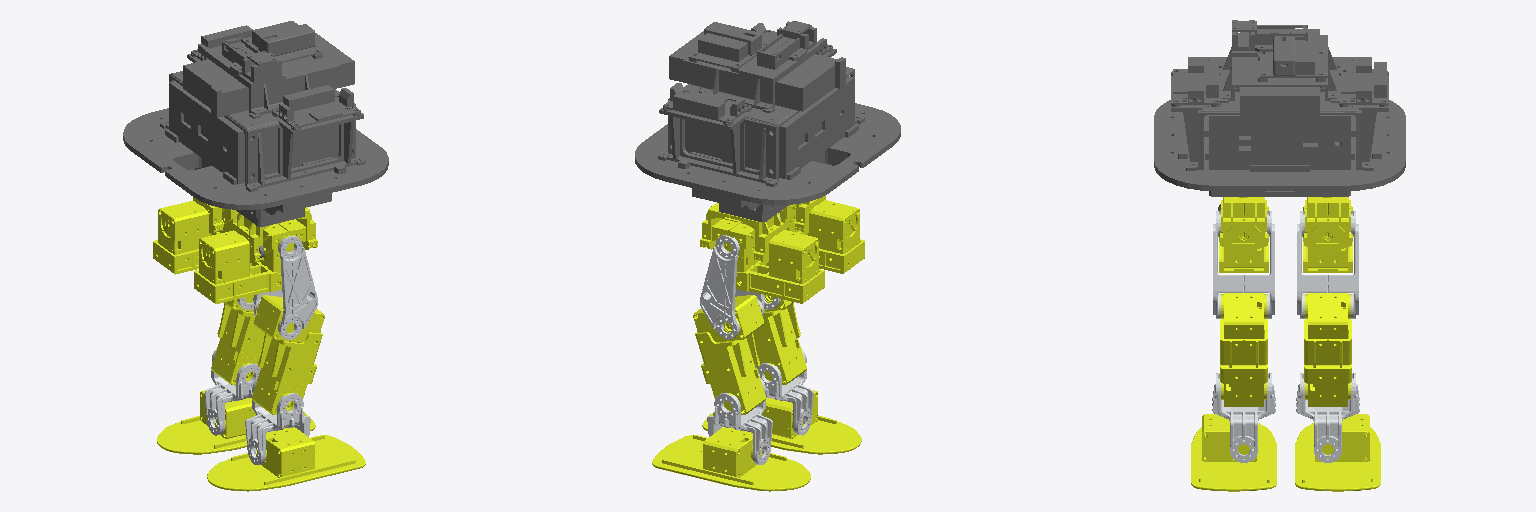
URDF robot description (exhx5_w_b_16):
<?xml version="1.0" encoding="utf-8"?>
<!-- This URDF was automatically created by SolidWorks to URDF Exporter! Originally created by [author] ([email redacted]) 
     Commit Version: 1.5.1-0-g916b5db  Build Version: 1.5.7152.31018
     For more information, please see http://wiki.ros.org/sw_urdf_exporter -->
<robot
  name="exhx5_w_b_16">
  <link
    name="body_link">
    <inertial>
      <origin
        xyz="0.00043545 0.00025536 0.10071"
        rpy="0 0 0" />
      <mass
        value="1.8238" />
      <inertia
        ixx="0.0025905"
        ixy="-5.6852E-06"
        ixz="-1.3106E-05"
        iyy="0.0024595"
        iyz="-1.261E-06"
        izz="0.0046407" />
    </inertial>
    <visual>
      <origin
        xyz="0 0 0"
        rpy="0 0 0" />
      <geometry>
        <mesh
          filename="../meshes/body_link.STL" />
      </geometry>
      <material
        name="">
        <color
          rgba="0.49804 0.49804 0.49804 1" />
      </material>
    </visual>
    <collision>
      <origin
        xyz="0 0 0"
        rpy="0 0 0" />
      <geometry>
        <mesh
          filename="../meshes/body_link.STL" />
      </geometry>
    </collision>
  </link>

  <link
    name="imu_link">
    <inertial>
      <origin
        xyz="-0.008387 1.336E-17 -0.0069463"
        rpy="0 0 0" />
      <mass
        value="0.0062931" />
      <inertia
        ixx="3.2242E-07"
        ixy="3.3527E-22"
        ixz="-6.9193E-08"
        iyy="9.2229E-07"
        iyz="-8.0392E-22"
        izz="1.1018E-06" />
    </inertial>
    <visual>
      <origin
        xyz="0 0 0"
        rpy="0 0 0" />
      <geometry>
        <mesh
          filename="../meshes/imu_link.STL" />
      </geometry>
      <material
        name="">
        <color
          rgba="0.79216 0.81961 0.93333 1" />
      </material>
    </visual>
    <collision>
      <origin
        xyz="0 0 0"
        rpy="0 0 0" />
      <geometry>
        <mesh
          filename="../meshes/imu_link.STL" />
      </geometry>
    </collision>
  </link>
  <joint
    name="imu"
    type="fixed">
    <origin
      xyz="0 0 0.0492"
      rpy="0 0 0" />
    <parent
      link="body_link" />
    <child
      link="imu_link" />
    <axis
      xyz="0 0 0" />
    <limit
      lower="-3.14"
      upper="3.14"
      effort="4"
      velocity="4" />
  </joint>
  <link
    name="l_hip_g_link">
    <inertial>
      <origin
        xyz="-0.0043797 -8.6604E-08 0.011813"
        rpy="0 0 0" />
      <mass
        value="0.061008" />
      <inertia
        ixx="1.167E-05"
        ixy="7.1767E-11"
        ixz="9.1442E-09"
        iyy="2.2342E-05"
        iyz="2.5177E-11"
        izz="2.4892E-05" />
    </inertial>
    <visual>
      <origin
        xyz="0 0 0"
        rpy="0 0 0" />
      <geometry>
        <mesh
          filename="../meshes/l_hip_g_link.STL" />
      </geometry>
      <material
        name="">
        <color
          rgba="0.9451 1 0.18431 1" />
      </material>
    </visual>
    <collision>
      <origin
        xyz="0 0 0"
        rpy="0 0 0" />
      <geometry>
        <mesh
          filename="../meshes/l_hip_g_link.STL" />
      </geometry>
    </collision>
  </link>
  <joint
    name="l_hip_g"
    type="fixed">
    <origin
      xyz="0 .040 0"
      rpy="0 0 0" />
    <parent
      link="body_link" />
    <child
      link="l_hip_g_link" />
    <axis
      xyz="0 0 0" />
  </joint>
  <link
    name="l_hip_roll_link">
    <inertial>
      <origin
        xyz="0.013831 0.00033457 0.025453"
        rpy="0 0 0" />
      <mass
        value="0.2969" />
      <inertia
        ixx="7.8136E-05"
        ixy="7.265E-07"
        ixz="-6.9809E-08"
        iyy="9.2183E-05"
        iyz="-5.6881E-11"
        izz="7.1034E-05" />
    </inertial>
    <visual>
      <origin
        xyz="0 0 0"
        rpy="0 0 0" />
      <geometry>
        <mesh
          filename="../meshes/l_hip_roll_link.STL" />
      </geometry>
      <material
        name="">
        <color
          rgba="0.9451 1 0.18431 1" />
      </material>
    </visual>
    <collision>
      <origin
        xyz="0 0 0"
        rpy="0 0 0" />
      <geometry>
        <mesh
          filename="../meshes/l_hip_roll_link.STL" />
      </geometry>
    </collision>
  </link>
  <joint
    name="l_hip_roll"
    type="revolute">
    <origin
      xyz="0 0 0"
      rpy="3.1416 1.5708 0" />
    <parent
      link="l_hip_g_link" />
    <child
      link="l_hip_roll_link" />
    <axis
      xyz="0 0 1" />
    <limit
      lower="-3.14"
      upper="3.14"
      effort="4"
      velocity="4" />
  </joint>
  <link
    name="l_hip_pitch_link">
    <inertial>
      <origin
        xyz="0.041225 -0.007321 -5.0713E-08"
        rpy="0 0 0" />
      <mass
        value="0.051592" />
      <inertia
        ixx="2.7959E-05"
        ixy="2.0752E-06"
        ixz="-8.0934E-11"
        iyy="4.8156E-05"
        iyz="3.6317E-11"
        izz="2.9604E-05" />
    </inertial>
    <visual>
      <origin
        xyz="0 0 0"
        rpy="0 0 0" />
      <geometry>
        <mesh
          filename="../meshes/l_hip_pitch_link.STL" />
      </geometry>
      <material
        name="">
        <color
          rgba="0.89804 0.91765 0.92941 1" />
      </material>
    </visual>
    <collision>
      <origin
        xyz="0 0 0"
        rpy="0 0 0" />
      <geometry>
        <mesh
          filename="../meshes/l_hip_pitch_link.STL" />
      </geometry>
    </collision>
  </link>
  <joint
    name="l_hip_pitch"
    type="revolute">
    <origin
      xyz="0 0 0"
      rpy="1.5708 0 0" />
    <parent
      link="l_hip_roll_link" />
    <child
      link="l_hip_pitch_link" />
    <axis
      xyz="0 0 1" />
    <limit
      lower="-3.14"
      upper="3.14"
      effort="4"
      velocity="4" />
  </joint>
  <link
    name="l_knee_link">
    <inertial>
      <origin
        xyz="0.033756 -0.0084189 -6.6115E-09"
        rpy="0 0 0" />
      <mass
        value="0.28878" />
      <inertia
        ixx="6.6724E-05"
        ixy="7.5004E-07"
        ixz="-8.4578E-07"
        iyy="6.5699E-05"
        iyz="4.1085E-07"
        izz="7.0381E-05" />
    </inertial>
    <visual>
      <origin
        xyz="0 0 0"
        rpy="0 0 0" />
      <geometry>
        <mesh
          filename="../meshes/l_knee_link.STL" />
      </geometry>
      <material
        name="">
        <color
          rgba="0.9451 1 0.18431 1" />
      </material>
    </visual>
    <collision>
      <origin
        xyz="0 0 0"
        rpy="0 0 0" />
      <geometry>
        <mesh
          filename="../meshes/l_knee_link.STL" />
      </geometry>
    </collision>
  </link>
  <joint
    name="l_knee"
    type="revolute">
    <origin
      xyz="0.075954 0 0"
      rpy="0 0 0" />
    <parent
      link="l_hip_pitch_link" />
    <child
      link="l_knee_link" />
    <axis
      xyz="0 0 1" />
    <limit
      lower="-3.14"
      upper="3.14"
      effort="4"
      velocity="4" />
  </joint>
  <link
    name="l_ank_pitch_link">
    <inertial>
      <origin
        xyz="0.022786 -7.3909E-09 -7.1981E-06"
        rpy="0 0 0" />
      <mass
        value="0.044772" />
      <inertia
        ixx="1.777E-05"
        ixy="8.555E-14"
        ixz="-3.3713E-09"
        iyy="1.7119E-05"
        iyz="1.7593E-11"
        izz="1.8661E-05" />
    </inertial>
    <visual>
      <origin
        xyz="0 0 0"
        rpy="0 0 0" />
      <geometry>
        <mesh
          filename="../meshes/l_ank_pitch_link.STL" />
      </geometry>
      <material
        name="">
        <color
          rgba="0.89804 0.91765 0.92941 1" />
      </material>
    </visual>
    <collision>
      <origin
        xyz="0 0 0"
        rpy="0 0 0" />
      <geometry>
        <mesh
          filename="../meshes/l_ank_pitch_link.STL" />
      </geometry>
    </collision>
  </link>
  <joint
    name="l_ank_pitch"
    type="revolute">
    <origin
      xyz="0.074602 0 0"
      rpy="3.1416 0 0" />
    <parent
      link="l_knee_link" />
    <child
      link="l_ank_pitch_link" />
    <axis
      xyz="0 0 1" />
    <limit
      lower="-3.14"
      upper="3.14"
      effort="4"
      velocity="4" />
  </joint>
  <link
    name="l_ank_roll_link">
    <inertial>
      <origin
        xyz="0.0047069 0.010728 0.0015299"
        rpy="0 0 0" />
      <mass
        value="0.16774" />
      <inertia
        ixx="0.00012039"
        ixy="-3.7428E-09"
        ixz="4.4069E-08"
        iyy="8.7735E-05"
        iyz="7.0469E-07"
        izz="4.7866E-05" />
    </inertial>
    <visual>
      <origin
        xyz="0 0 0"
        rpy="0 0 0" />
      <geometry>
        <mesh
          filename="../meshes/l_ank_roll_link.STL" />
      </geometry>
      <material
        name="">
        <color
          rgba="0.9451 1 0.18431 1" />
      </material>
    </visual>
    <collision>
      <origin
        xyz="0 0 0"
        rpy="0 0 0" />
      <geometry>
        <mesh
          filename="../meshes/l_ank_roll_link.STL" />
      </geometry>
    </collision>
  </link>
  <joint
    name="l_ank_roll"
    type="revolute">
    <origin
      xyz="0.0465 0 0"
      rpy="-1.5708 0 0" />
    <parent
      link="l_ank_pitch_link" />
    <child
      link="l_ank_roll_link" />
    <axis
      xyz="0 0 1" />
    <limit
      lower="-3.14"
      upper="3.14"
      effort="4"
      velocity="4" />
  </joint>
  <link
    name="r_hip_g_link">
    <inertial>
      <origin
        xyz="-0.0043797 -8.6604E-08 0.011813"
        rpy="0 0 0" />
      <mass
        value="0.061008" />
      <inertia
        ixx="1.167E-05"
        ixy="7.1767E-11"
        ixz="9.1442E-09"
        iyy="2.2342E-05"
        iyz="2.5177E-11"
        izz="2.4892E-05" />
    </inertial>
    <visual>
      <origin
        xyz="0 0 0"
        rpy="0 0 0" />
      <geometry>
        <mesh
          filename="../meshes/r_hip_g_link.STL" />
      </geometry>
      <material
        name="">
        <color
          rgba="0.9451 1 0.18431 1" />
      </material>
    </visual>
    <collision>
      <origin
        xyz="0 0 0"
        rpy="0 0 0" />
      <geometry>
        <mesh
          filename="../meshes/r_hip_g_link.STL" />
      </geometry>
    </collision>
  </link>
  <joint
    name="r_hip_g"
    type="fixed">
    <origin
      xyz="0 -.030 0"
      rpy="0 0 0" />
    <parent
      link="body_link" />
    <child
      link="r_hip_g_link" />
    <axis
      xyz="0 0 0" />
  </joint>
  <link
    name="r_hip_roll_link">
    <inertial>
      <origin
        xyz="0.013831 0.00033457 0.025453"
        rpy="0 0 0" />
      <mass
        value="0.2969" />
      <inertia
        ixx="7.8136E-05"
        ixy="7.265E-07"
        ixz="-6.9809E-08"
        iyy="9.2183E-05"
        iyz="-5.6881E-11"
        izz="7.1034E-05" />
    </inertial>
    <visual>
      <origin
        xyz="0 0 0"
        rpy="0 0 0" />
      <geometry>
        <mesh
          filename="../meshes/r_hip_roll_link.STL" />
      </geometry>
      <material
        name="">
        <color
          rgba="0.9451 1 0.18431 1" />
      </material>
    </visual>
    <collision>
      <origin
        xyz="0 0 0"
        rpy="0 0 0" />
      <geometry>
        <mesh
          filename="../meshes/r_hip_roll_link.STL" />
      </geometry>
    </collision>
  </link>
  <joint
    name="r_hip_roll"
    type="revolute">
    <origin
      xyz="0 0 0"
      rpy="3.1416 1.5708 0" />
    <parent
      link="r_hip_g_link" />
    <child
      link="r_hip_roll_link" />
    <axis
      xyz="0 0 1" />
    <limit
      lower="-3.14"
      upper="3.14"
      effort="4"
      velocity="4" />
  </joint>
  <link
    name="r_hip_pitch_link">
    <inertial>
      <origin
        xyz="0.041225 0.007321 5.0713E-08"
        rpy="0 0 0" />
      <mass
        value="0.051592" />
      <inertia
        ixx="2.7959E-05"
        ixy="-2.0752E-06"
        ixz="8.0934E-11"
        iyy="4.8156E-05"
        iyz="3.6317E-11"
        izz="2.9604E-05" />
    </inertial>
    <visual>
      <origin
        xyz="0 0 0"
        rpy="0 0 0" />
      <geometry>
        <mesh
          filename="../meshes/r_hip_pitch_link.STL" />
      </geometry>
      <material
        name="">
        <color
          rgba="0.89804 0.91765 0.92941 1" />
      </material>
    </visual>
    <collision>
      <origin
        xyz="0 0 0"
        rpy="0 0 0" />
      <geometry>
        <mesh
          filename="../meshes/r_hip_pitch_link.STL" />
      </geometry>
    </collision>
  </link>
  <joint
    name="r_hip_pitch"
    type="revolute">
    <origin
      xyz="0 0 0"
      rpy="-1.5708 0 0" />
    <parent
      link="r_hip_roll_link" />
    <child
      link="r_hip_pitch_link" />
    <axis
      xyz="0 0 1" />
    <limit
      lower="-3.14"
      upper="3.14"
      effort="4"
      velocity="4" />
  </joint>
  <link
    name="r_knee_link">
    <inertial>
      <origin
        xyz="0.033757 0.0084176 6.6115E-09"
        rpy="0 0 0" />
      <mass
        value="0.28878" />
      <inertia
        ixx="6.6724E-05"
        ixy="-7.5008E-07"
        ixz="8.458E-07"
        iyy="6.5699E-05"
        iyz="4.1081E-07"
        izz="7.0381E-05" />
    </inertial>
    <visual>
      <origin
        xyz="0 0 0"
        rpy="0 0 0" />
      <geometry>
        <mesh
          filename="../meshes/r_knee_link.STL" />
      </geometry>
      <material
        name="">
        <color
          rgba="0.9451 1 0.18431 1" />
      </material>
    </visual>
    <collision>
      <origin
        xyz="0 0 0"
        rpy="0 0 0" />
      <geometry>
        <mesh
          filename="../meshes/r_knee_link.STL" />
      </geometry>
    </collision>
  </link>
  <joint
    name="r_knee"
    type="revolute">
    <origin
      xyz="0.075954 0 0"
      rpy="0 0 0" />
    <parent
      link="r_hip_pitch_link" />
    <child
      link="r_knee_link" />
    <axis
      xyz="0 0 1" />
    <limit
      lower="-3.14"
      upper="3.14"
      effort="4"
      velocity="4" />
  </joint>
  <link
    name="r_ank_pitch_link">
    <inertial>
      <origin
        xyz="0.025786 -7.3887E-09 -7.1981E-06"
        rpy="0 0 0" />
      <mass
        value="0.044772" />
      <inertia
        ixx="1.777E-05"
        ixy="8.5434E-14"
        ixz="-3.3713E-09"
        iyy="1.7119E-05"
        iyz="1.7592E-11"
        izz="1.8661E-05" />
    </inertial>
    <visual>
      <origin
        xyz="0 0 0"
        rpy="0 0 0" />
      <geometry>
        <mesh
          filename="../meshes/r_ank_pitch_link.STL" />
      </geometry>
      <material
        name="">
        <color
          rgba="0.89804 0.91765 0.92941 1" />
      </material>
    </visual>
    <collision>
      <origin
        xyz="0 0 0"
        rpy="0 0 0" />
      <geometry>
        <mesh
          filename="../meshes/r_ank_pitch_link.STL" />
      </geometry>
    </collision>
  </link>
  <joint
    name="r_ank_pitch"
    type="revolute">
    <origin
      xyz="0.071602 0 0"
      rpy="3.1416 0 0" />
    <parent
      link="r_knee_link" />
    <child
      link="r_ank_pitch_link" />
    <axis
      xyz="0 0 1" />
    <limit
      lower="-3.14"
      upper="3.14"
      effort="4"
      velocity="4" />
  </joint>
  <link
    name="r_ank_roll_link">
    <inertial>
      <origin
        xyz="0.0077069 -0.010728 0.0015299"
        rpy="0 0 0" />
      <mass
        value="0.16774" />
      <inertia
        ixx="0.00012039"
        ixy="3.743E-09"
        ixz="4.407E-08"
        iyy="8.7735E-05"
        iyz="-7.0467E-07"
        izz="4.7866E-05" />
    </inertial>
    <visual>
      <origin
        xyz="0 0 0"
        rpy="0 0 0" />
      <geometry>
        <mesh
          filename="../meshes/r_ank_roll_link.STL" />
      </geometry>
      <material
        name="">
        <color
          rgba="0.9451 1 0.18431 1" />
      </material>
    </visual>
    <collision>
      <origin
        xyz="0 0 0"
        rpy="0 0 0" />
      <geometry>
        <mesh
          filename="../meshes/r_ank_roll_link.STL" />
      </geometry>
    </collision>
  </link>
  <joint
    name="r_ank_roll"
    type="revolute">
    <origin
      xyz="0.0465 0 0"
      rpy="1.5708 0 0" />
    <parent
      link="r_ank_pitch_link" />
    <child
      link="r_ank_roll_link" />
    <axis
      xyz="0 0 1" />
    <limit
      lower="-3.14"
      upper="3.14"
      effort="4"
      velocity="4" />
  </joint>
  <transmission name="r_hip_roll_tran">
    <type>transmission_interface/SimpleTransmission</type>
    <joint name="r_hip_roll">
      <hardwareInterface>hardware_interface/EffortJointInterface</hardwareInterface>
    </joint>
    <actuator name="r_hip_roll_motor">
      <hardwareInterface>hardware_interface/EffortJointInterface</hardwareInterface>
      <mechanicalReduction>1</mechanicalReduction>
    </actuator>
  </transmission>
  <transmission name="r_hip_pitch_tran">
    <type>transmission_interface/SimpleTransmission</type>
    <joint name="r_hip_pitch">
      <hardwareInterface>hardware_interface/EffortJointInterface</hardwareInterface>
    </joint>
    <actuator name="r_hip_pitch_motor">
      <hardwareInterface>hardware_interface/EffortJointInterface</hardwareInterface>
      <mechanicalReduction>1</mechanicalReduction>
    </actuator>
  </transmission>
  <transmission name="r_knee_tran">
    <type>transmission_interface/SimpleTransmission</type>
    <joint name="r_knee">
      <hardwareInterface>hardware_interface/EffortJointInterface</hardwareInterface>
    </joint>
    <actuator name="r_knee_motor">
      <hardwareInterface>hardware_interface/EffortJointInterface</hardwareInterface>
      <mechanicalReduction>1</mechanicalReduction>
    </actuator>
  </transmission>
  <transmission name="r_ank_pitch_tran">
    <type>transmission_interface/SimpleTransmission</type>
    <joint name="r_ank_pitch">
      <hardwareInterface>hardware_interface/EffortJointInterface</hardwareInterface>
    </joint>
    <actuator name="r_ank_pitch_motor">
      <hardwareInterface>hardware_interface/EffortJointInterface</hardwareInterface>
      <mechanicalReduction>1</mechanicalReduction>
    </actuator>
  </transmission>
  <transmission name="r_ank_roll_tran">
    <type>transmission_interface/SimpleTransmission</type>
    <joint name="r_ank_roll">
      <hardwareInterface>hardware_interface/EffortJointInterface</hardwareInterface>
    </joint>
    <actuator name="r_ank_roll_motor">
      <hardwareInterface>hardware_interface/EffortJointInterface</hardwareInterface>
      <mechanicalReduction>1</mechanicalReduction>
    </actuator>
  </transmission>
  <transmission name="l_hip_roll_tran">
    <type>transmission_interface/SimpleTransmission</type>
    <joint name="l_hip_roll">
      <hardwareInterface>hardware_interface/EffortJointInterface</hardwareInterface>
    </joint>
    <actuator name="l_hip_roll_motor">
      <hardwareInterface>hardware_interface/EffortJointInterface</hardwareInterface>
      <mechanicalReduction>1</mechanicalReduction>
    </actuator>
  </transmission>
  <transmission name="l_hip_pitch_tran">
    <type>transmission_interface/SimpleTransmission</type>
    <joint name="l_hip_pitch">
      <hardwareInterface>hardware_interface/EffortJointInterface</hardwareInterface>
    </joint>
    <actuator name="l_hip_pitch_motor">
      <hardwareInterface>hardware_interface/EffortJointInterface</hardwareInterface>
      <mechanicalReduction>1</mechanicalReduction>
    </actuator>
  </transmission>
  <transmission name="l_knee_tran">
    <type>transmission_interface/SimpleTransmission</type>
    <joint name="l_knee">
      <hardwareInterface>hardware_interface/EffortJointInterface</hardwareInterface>
    </joint>
    <actuator name="l_knee_motor">
      <hardwareInterface>hardware_interface/EffortJointInterface</hardwareInterface>
      <mechanicalReduction>1</mechanicalReduction>
    </actuator>
  </transmission>
  <transmission name="l_ank_pitch_tran">
    <type>transmission_interface/SimpleTransmission</type>
    <joint name="l_ank_pitch">
      <hardwareInterface>hardware_interface/EffortJointInterface</hardwareInterface>
    </joint>
    <actuator name="l_ank_pitch_motor">
      <hardwareInterface>hardware_interface/EffortJointInterface</hardwareInterface>
      <mechanicalReduction>1</mechanicalReduction>
    </actuator>
  </transmission>
  <transmission name="l_ank_roll_tran">
    <type>transmission_interface/SimpleTransmission</type>
    <joint name="l_ank_roll">
      <hardwareInterface>hardware_interface/EffortJointInterface</hardwareInterface>
    </joint>
    <actuator name="l_ank_roll_motor">
      <hardwareInterface>hardware_interface/EffortJointInterface</hardwareInterface>
      <mechanicalReduction>1</mechanicalReduction>
    </actuator>
  </transmission>
</robot>

--- Render facts (derived) ---
3 views of the same robot in one strip: view 1: azimuth 30°, elevation 25°; view 2: azimuth 150°, elevation 25°; view 3: azimuth 270°, elevation 25° (orthographic).
Model exhx5_w_b_16 with 14 links and 13 joints (10 revolute, 3 fixed), rooted at body_link, posed all joints at 0.
Links seen in each view (by area): view 1: body_link, r_ank_roll_link, r_hip_roll_link, r_knee_link, l_hip_roll_link, l_ank_roll_link, r_hip_pitch_link, l_knee_link, r_ank_pitch_link, l_ank_pitch_link, r_hip_g_link; view 2: body_link, l_ank_roll_link, l_hip_roll_link, l_knee_link, r_hip_roll_link, r_ank_roll_link, l_hip_pitch_link, r_knee_link, l_ank_pitch_link, r_ank_pitch_link, l_hip_g_link; view 3: body_link, l_knee_link, r_knee_link, l_ank_roll_link, r_ank_roll_link, l_hip_g_link, r_hip_g_link, l_ank_pitch_link, r_ank_pitch_link, l_hip_pitch_link, r_hip_pitch_link, l_hip_roll_link (+1 smaller).
Link boxes in pixels (left/top/right/bottom): body_link: left=123, top=21, right=388, bottom=257; r_ank_roll_link: left=207, top=427, right=365, bottom=491; r_hip_roll_link: left=194, top=219, right=305, bottom=303; r_knee_link: left=252, top=295, right=324, bottom=414; l_hip_roll_link: left=153, top=201, right=238, bottom=274; l_ank_roll_link: left=157, top=390, right=315, bottom=454; r_hip_pitch_link: left=254, top=235, right=317, bottom=339; l_knee_link: left=211, top=295, right=264, bottom=385; r_ank_pitch_link: left=245, top=378, right=310, bottom=464; l_ank_pitch_link: left=204, top=349, right=260, bottom=435; r_hip_g_link: left=233, top=207, right=317, bottom=262; body_link: left=635, top=21, right=900, bottom=222; l_ank_roll_link: left=652, top=427, right=810, bottom=491; l_hip_roll_link: left=712, top=217, right=824, bottom=303; l_knee_link: left=693, top=295, right=765, bottom=414; r_hip_roll_link: left=779, top=200, right=864, bottom=273; r_ank_roll_link: left=702, top=390, right=861, bottom=454; l_hip_pitch_link: left=700, top=235, right=764, bottom=339; r_knee_link: left=753, top=295, right=806, bottom=384; l_ank_pitch_link: left=707, top=378, right=772, bottom=464; r_ank_pitch_link: left=757, top=348, right=813, bottom=435; l_hip_g_link: left=700, top=203, right=784, bottom=262; body_link: left=1154, top=20, right=1405, bottom=210; l_knee_link: left=1304, top=293, right=1351, bottom=406; r_knee_link: left=1220, top=293, right=1267, bottom=406; l_ank_roll_link: left=1295, top=414, right=1380, bottom=491; r_ank_roll_link: left=1191, top=414, right=1276, bottom=491; l_hip_g_link: left=1303, top=197, right=1352, bottom=247; r_hip_g_link: left=1219, top=197, right=1268, bottom=247; l_ank_pitch_link: left=1296, top=373, right=1359, bottom=462; r_ank_pitch_link: left=1212, top=373, right=1275, bottom=462; l_hip_pitch_link: left=1297, top=211, right=1358, bottom=318; r_hip_pitch_link: left=1213, top=211, right=1274, bottom=318; l_hip_roll_link: left=1303, top=200, right=1352, bottom=272.
Bounding box of the posed robot: 0.185 × 0.21 × 0.3893 m (x, y, z).
14 mesh visuals loaded from 14 distinct referenced files (14 binary STL).